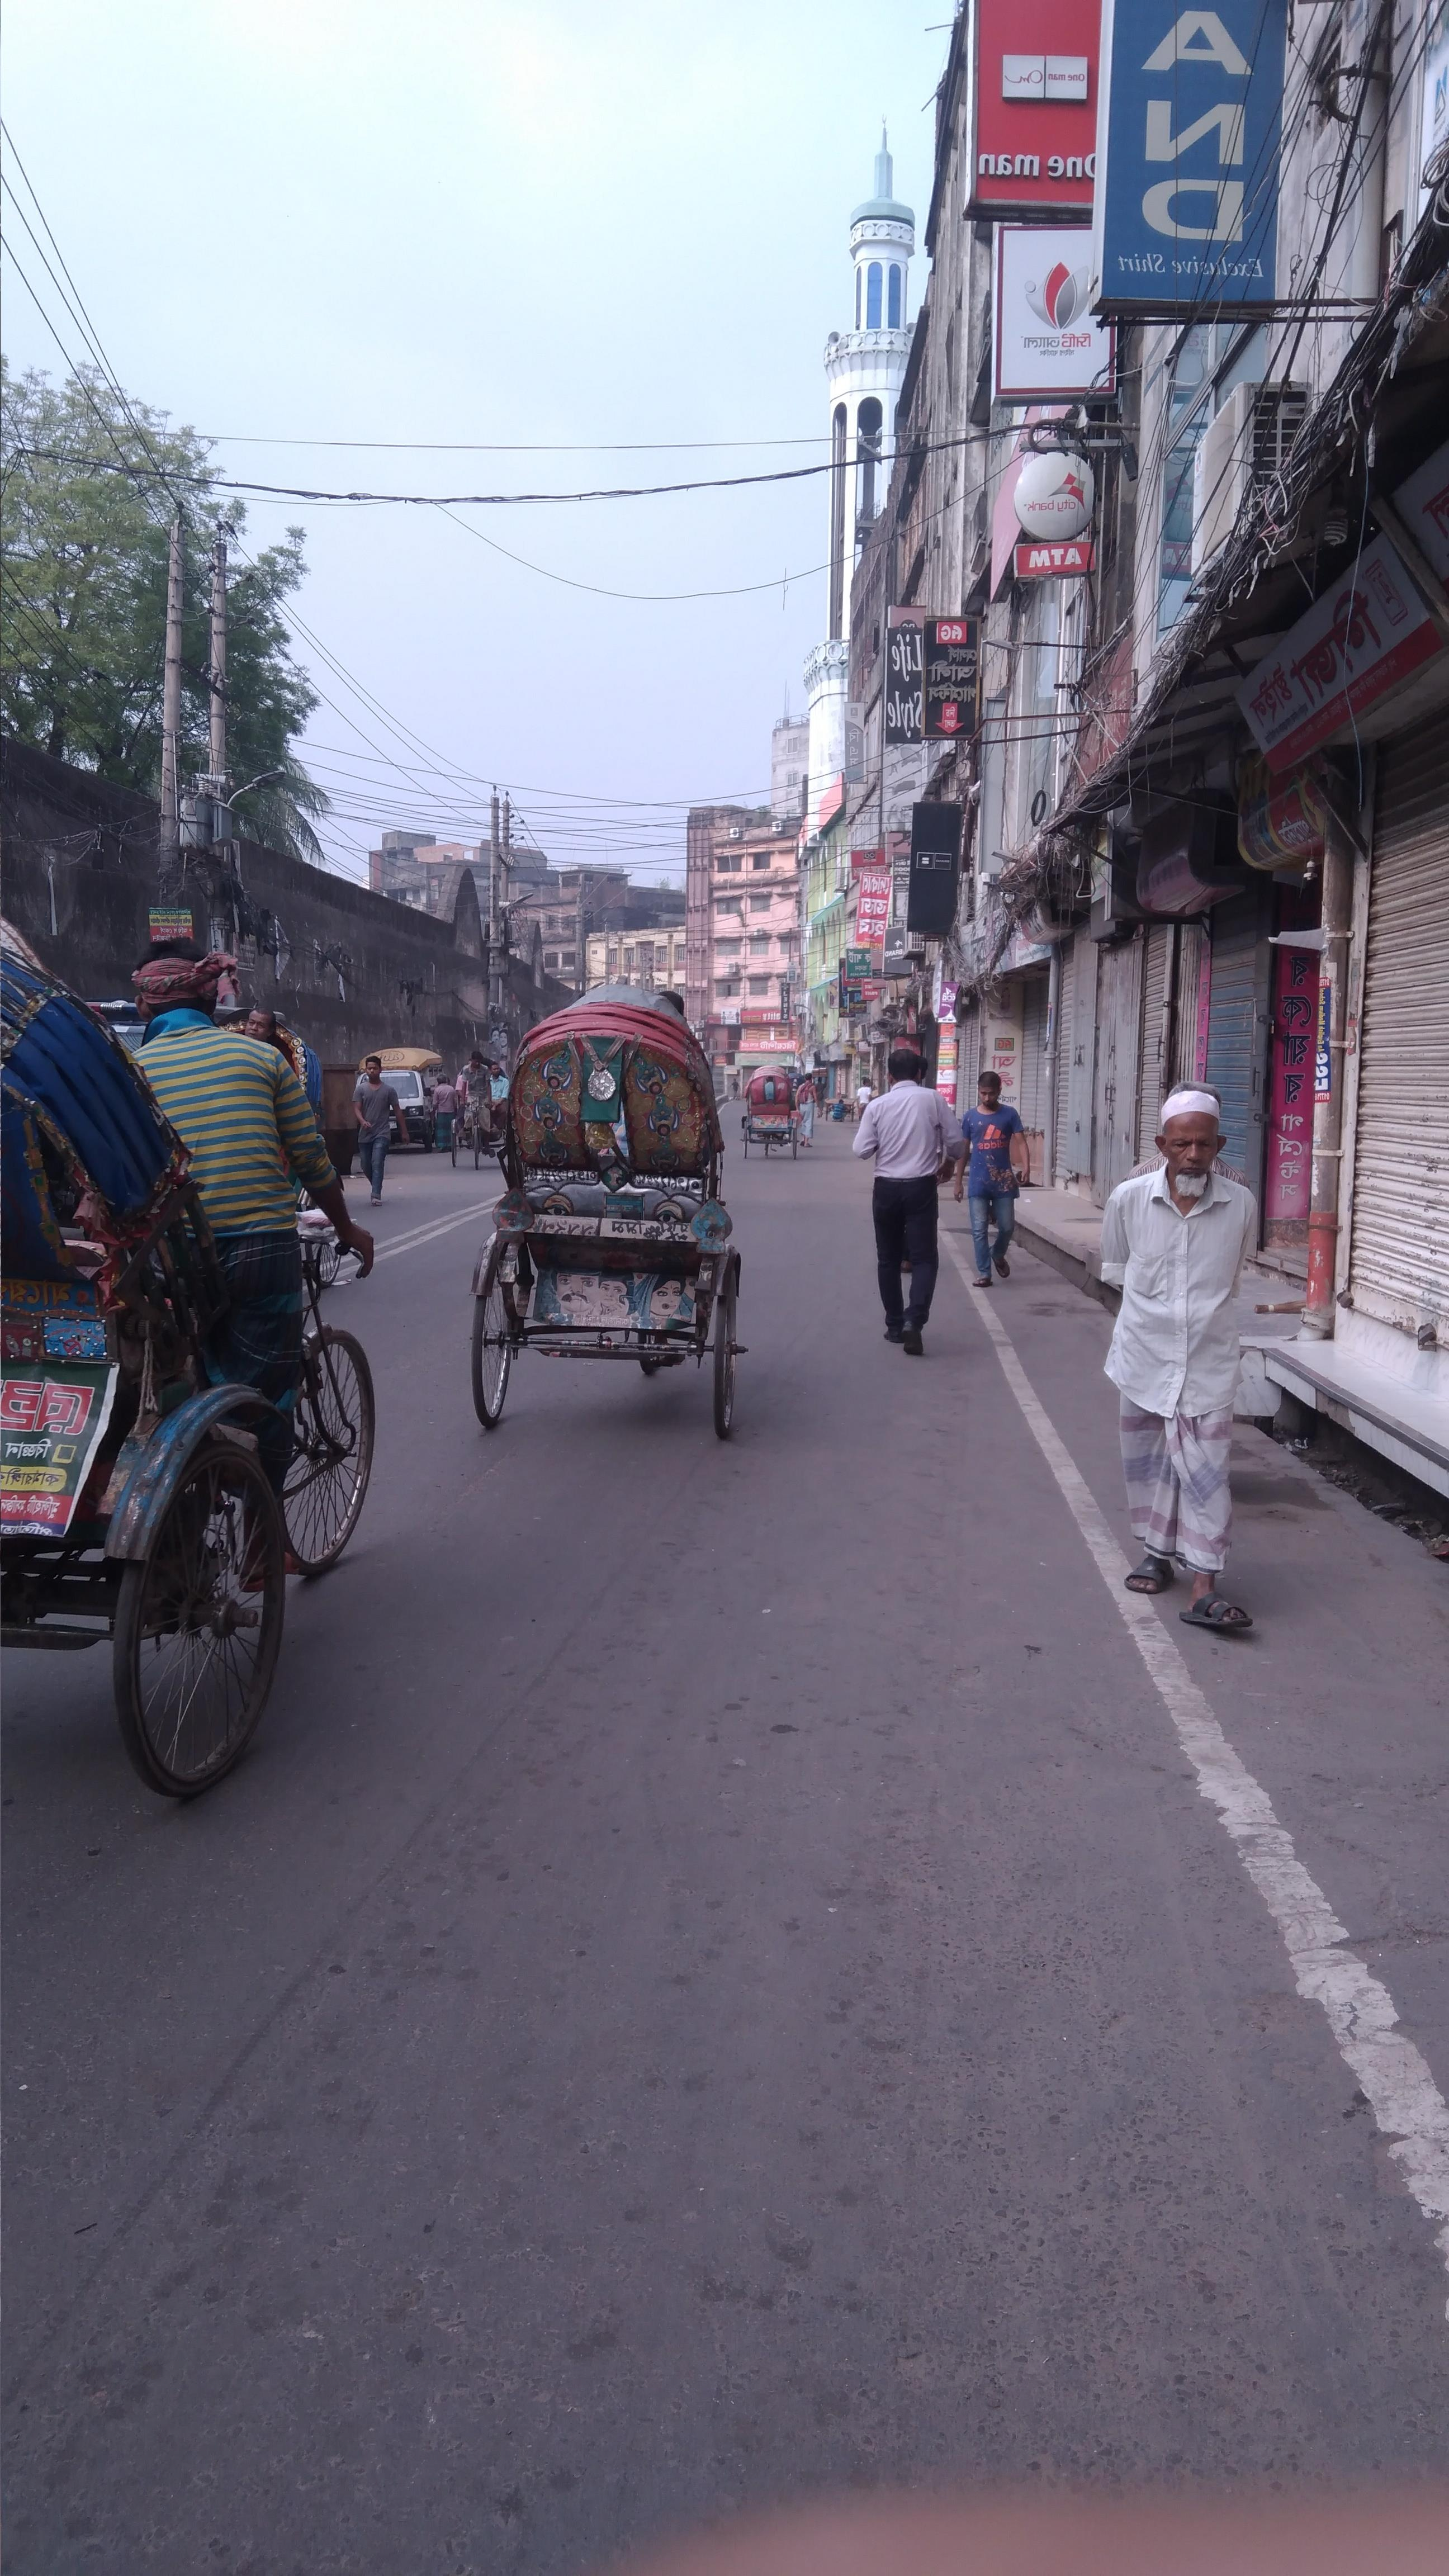Rickshaw: (12, 893, 393, 1785), (502, 971, 755, 1433), (740, 1007, 821, 1201)
